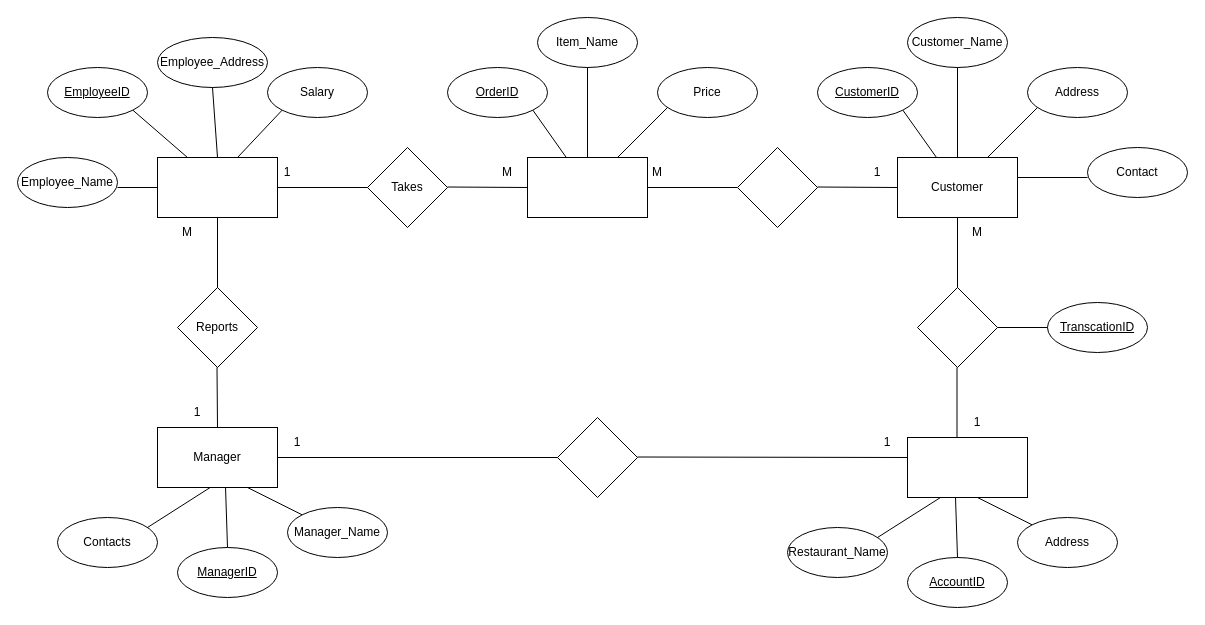
This 1205x625 diagram has some shape labels left out. The box of each missing label's shape, as (x1, y1, x2, y2) in pixels:
Employee: (156, 156, 278, 218)
Gives: (736, 146, 818, 228)
Manages: (556, 416, 638, 498)
Order: (526, 156, 648, 218)
Pays: (916, 286, 998, 368)
Restaurant Account: (906, 436, 1028, 498)
